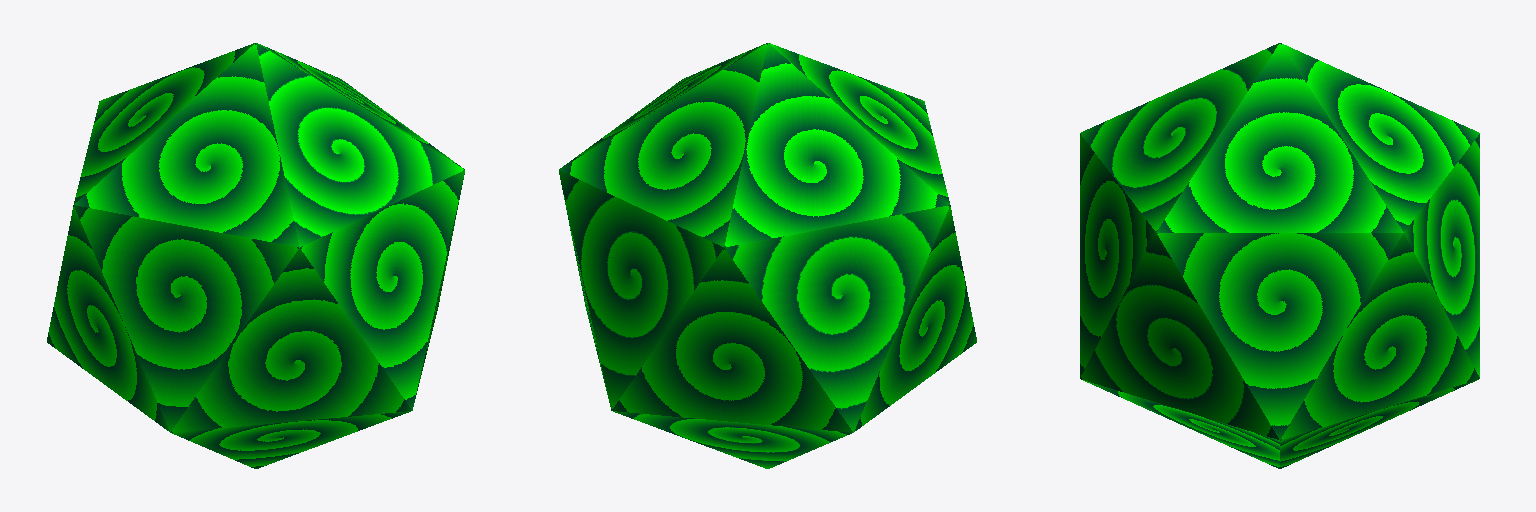
3 views of the same model, side by side, from view 1: azimuth 30°, elevation 25°; view 2: azimuth 150°, elevation 25°; view 3: azimuth 270°, elevation 25° (orthographic).
Parts seen in each view (by area): view 1: Solid; view 2: Solid; view 3: Solid.
Boxes of the visible parts, box(x1,y1,x2,y2) form: Solid: box(47, 43, 464, 468); Solid: box(559, 43, 976, 468); Solid: box(1080, 43, 1479, 468).
Size of the model in its own units: 1.79 by 2 by 1.7.
1 materials, 1 textured.